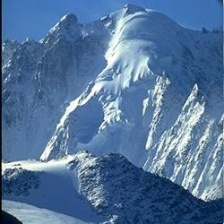neutral: (6, 5, 214, 216)
